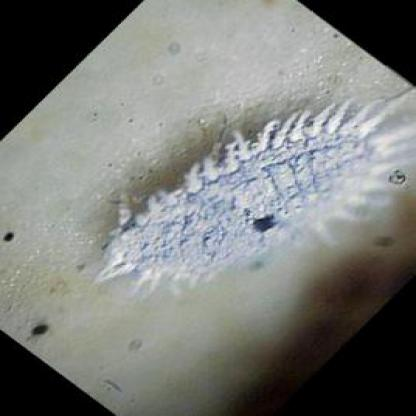mealy bug: (97, 97, 412, 286)
